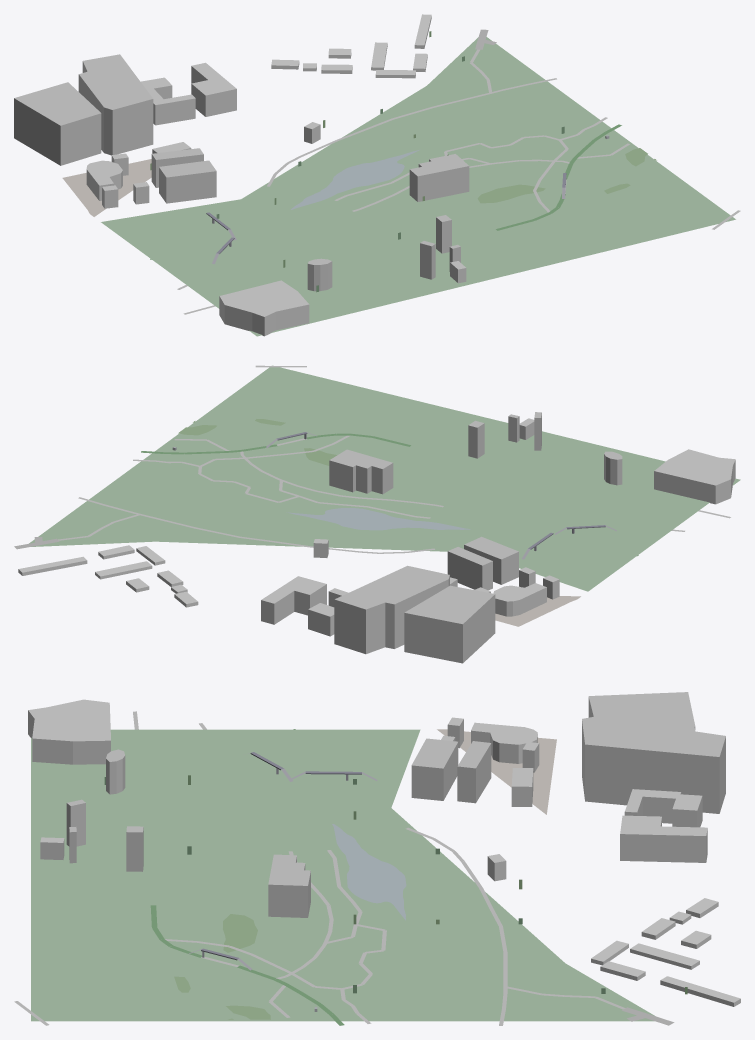
The picture shows the model from 3 angles, top to bottom: view 1: azimuth 30°, elevation 25°; view 2: azimuth 150°, elevation 25°; view 3: azimuth 270°, elevation 25°; orthographic projection. The views are drawn at different scales.
Bounding box in the file's own units: 544 × 46.44 × 527.
